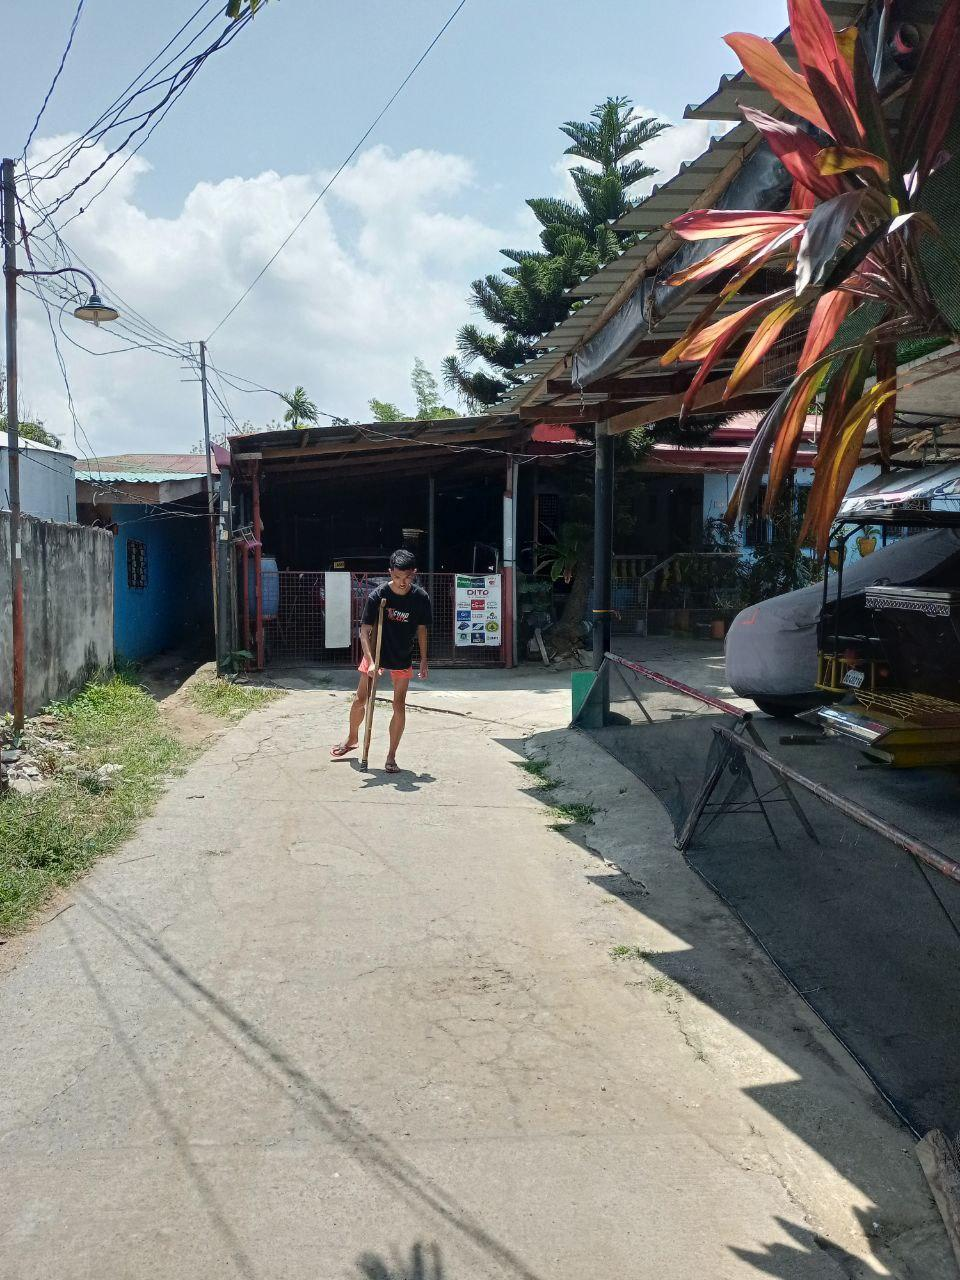crutches: (326, 538, 440, 780)
